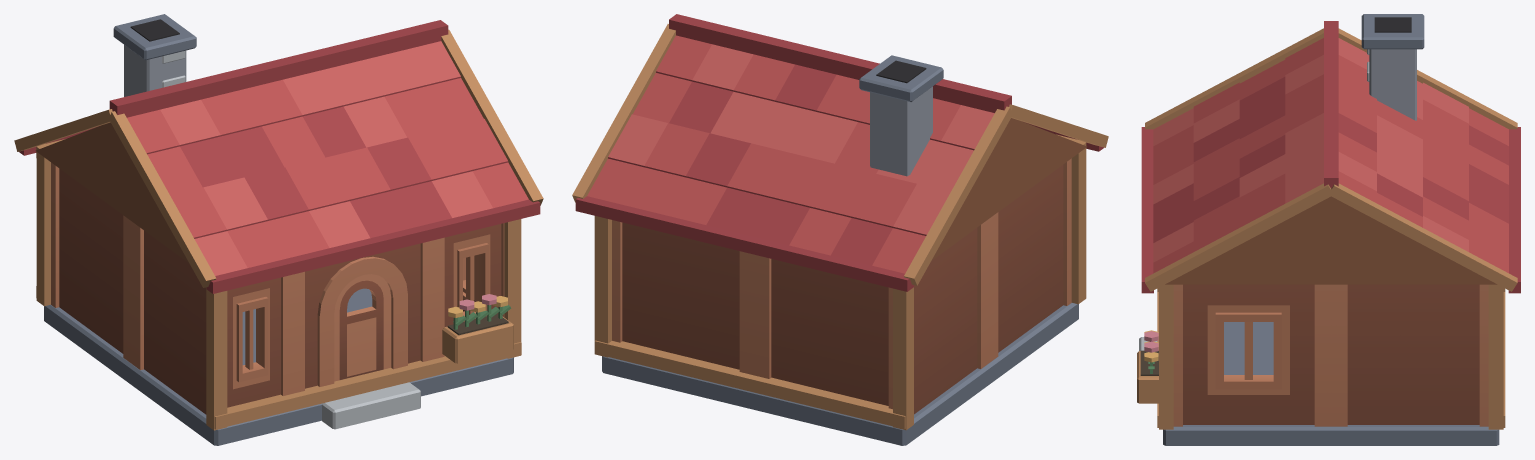
The model's file is house_a.glb.
3 renders of one model, left to right at view 1: azimuth 30°, elevation 25°; view 2: azimuth 150°, elevation 25°; view 3: azimuth 270°, elevation 25°, orthographic. The views are drawn at different scales.
Visible parts, largest first — view 1: house_a_建筑共用调色板, house_a_fantasy-town-kit 调色板; view 2: house_a_建筑共用调色板, house_a_fantasy-town-kit 调色板; view 3: house_a_建筑共用调色板, house_a_fantasy-town-kit 调色板.
Boxes of the visible parts, <box> form: house_a_建筑共用调色板: <box>14,14,543,445</box>; house_a_fantasy-town-kit 调色板: <box>51,162,504,414</box>; house_a_建筑共用调色板: <box>572,14,1108,445</box>; house_a_fantasy-town-kit 调色板: <box>612,158,1071,414</box>; house_a_建筑共用调色板: <box>1137,14,1520,445</box>; house_a_fantasy-town-kit 调色板: <box>1173,284,1488,426</box>.
Bounding box in the file's own units: 4.59 × 4.11 × 4.65.
2 materials, 2 textured.
